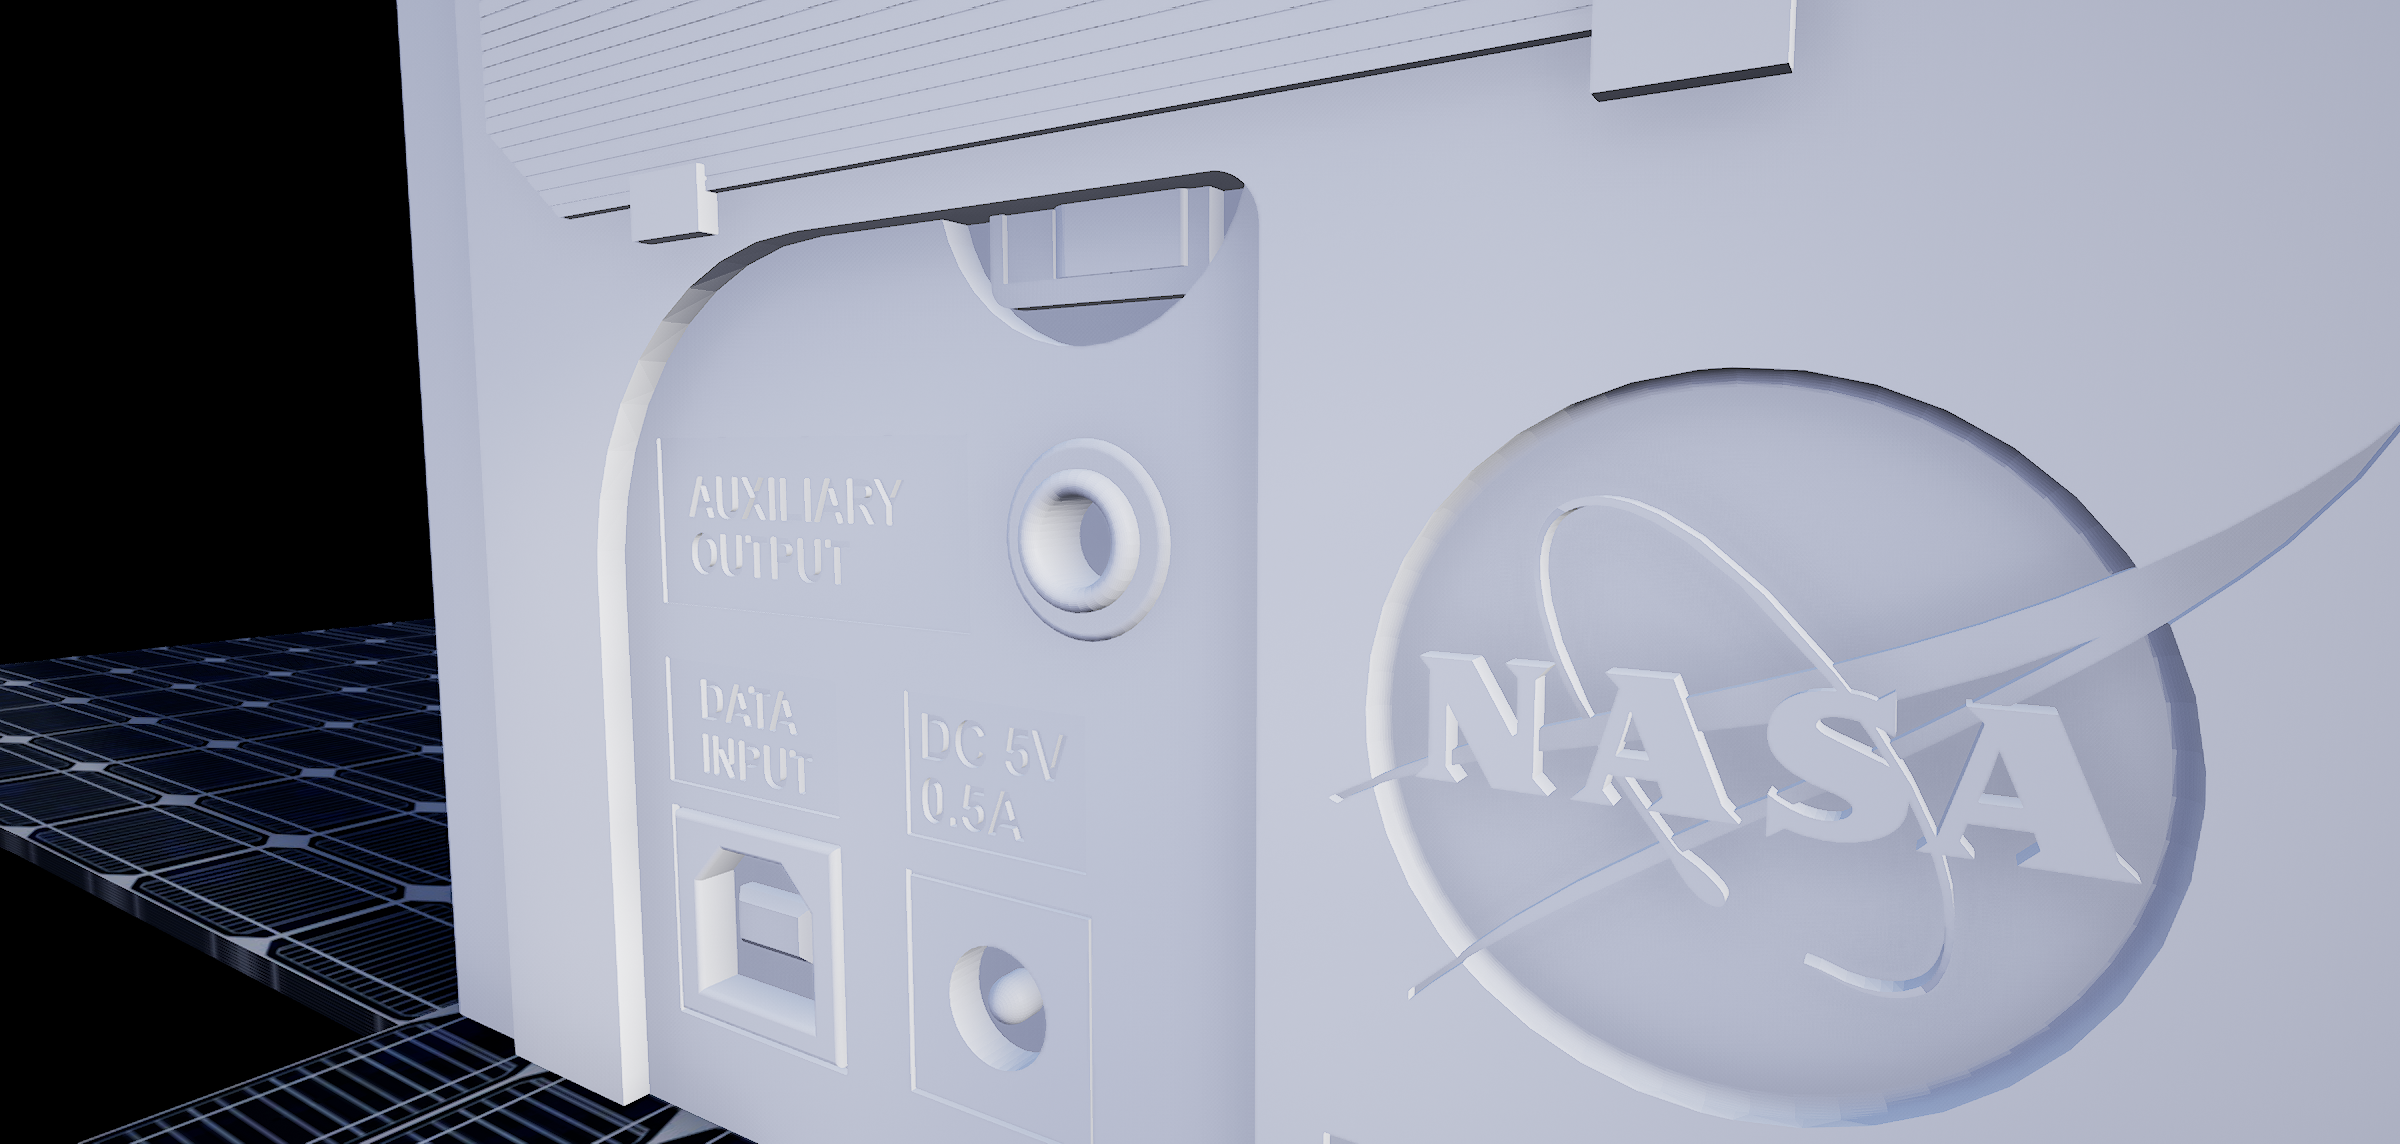aux: (978, 430, 1200, 666)
dc: (921, 939, 1068, 1084)
usb: (686, 841, 833, 1041)
